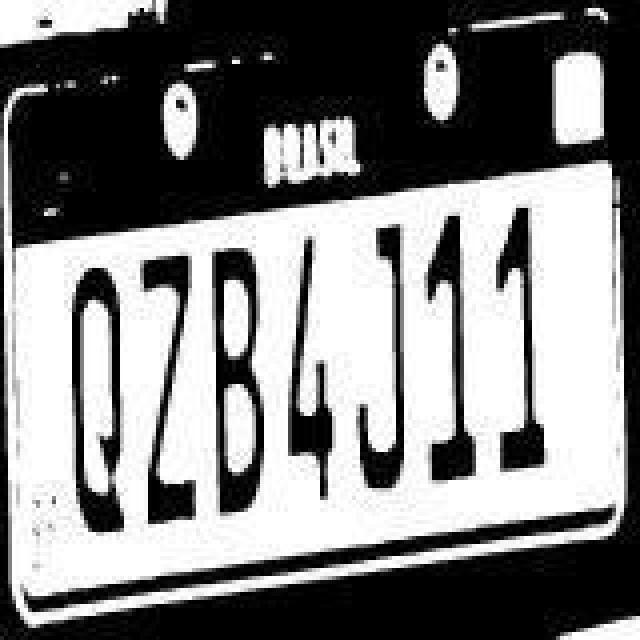1: (416, 200, 488, 496), (488, 196, 552, 492)
4: (286, 222, 354, 514)
B: (202, 228, 278, 532)
J: (354, 210, 414, 510)
Q: (64, 264, 136, 552)
Z: (128, 256, 208, 544)
